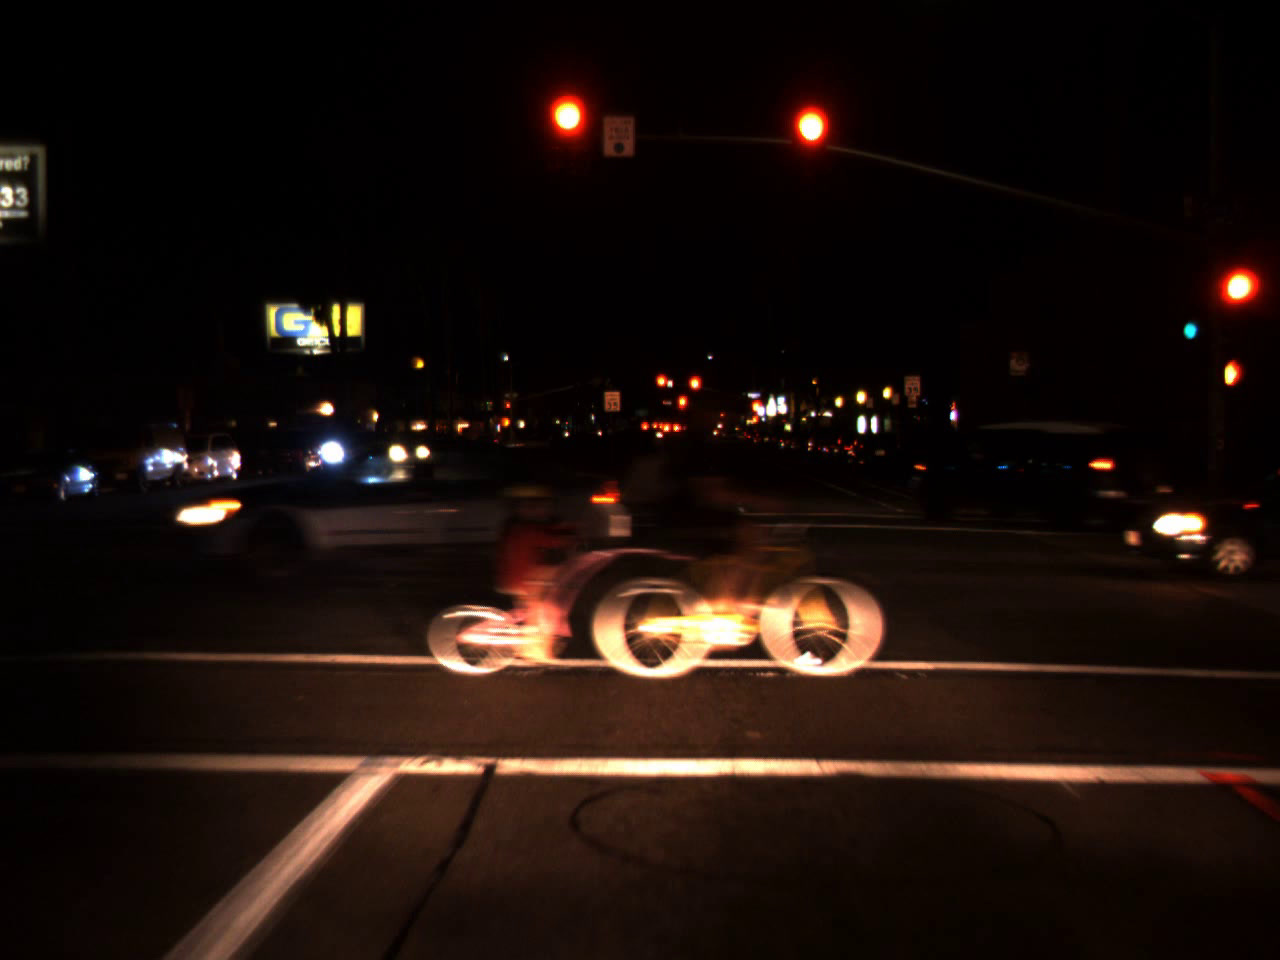stop: (1213, 269, 1256, 336), (791, 107, 828, 182), (550, 97, 586, 172), (747, 396, 765, 428), (687, 375, 702, 404), (654, 373, 670, 400), (677, 394, 687, 418), (505, 403, 511, 413)
